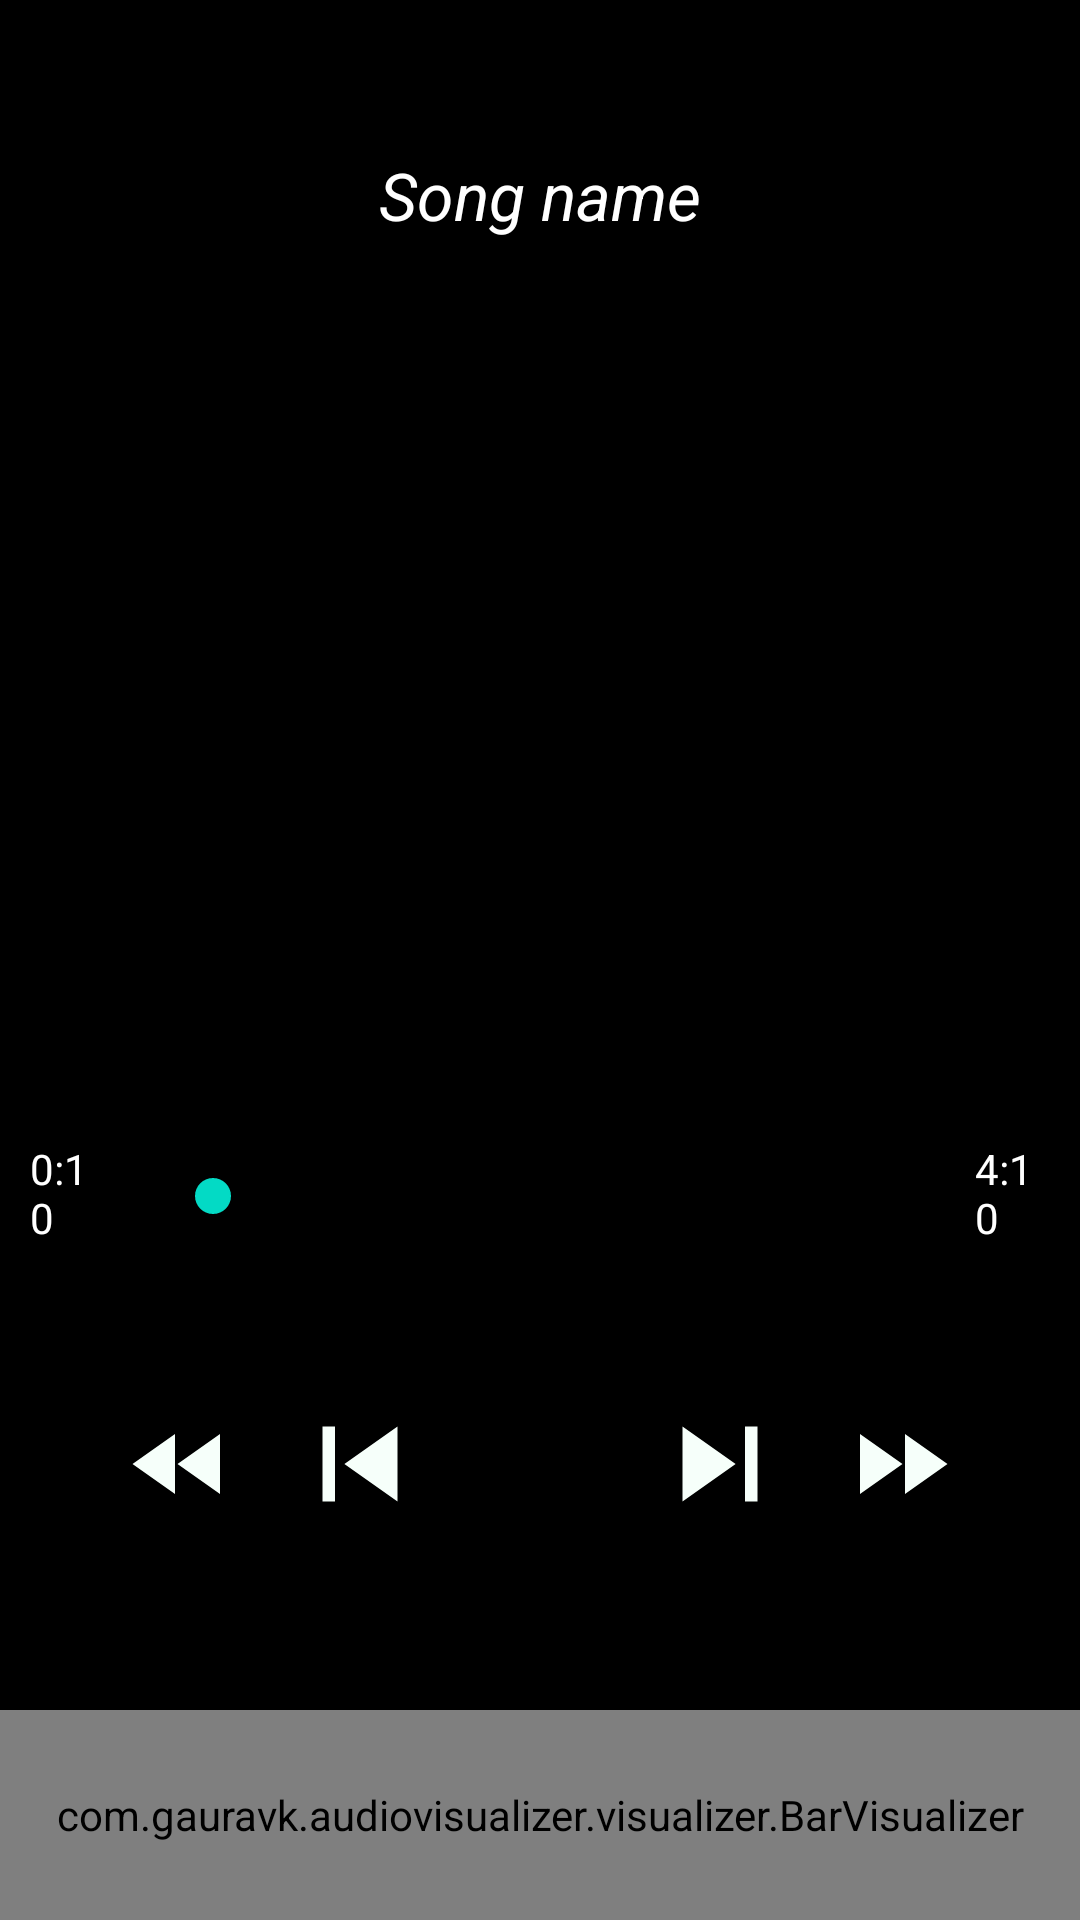

Where to tap for icons on this 1080×1920 app screen, as (x=x, y=y):
fast forward: (x=903, y=1464)
fast rewind: (x=176, y=1464)
next: (x=720, y=1464)
prev: (x=360, y=1464)
